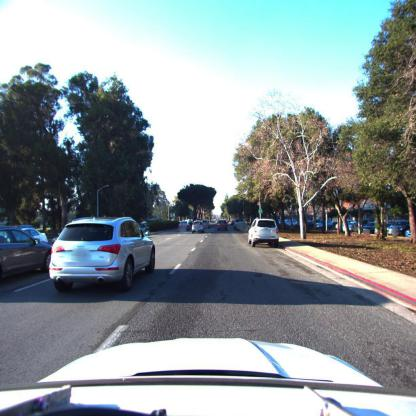car: (6, 336, 416, 416), (48, 217, 157, 292), (0, 227, 53, 288), (248, 219, 280, 248), (386, 222, 412, 239), (176, 219, 190, 233), (234, 221, 249, 232), (192, 221, 206, 232), (218, 219, 228, 230), (211, 220, 215, 223)
